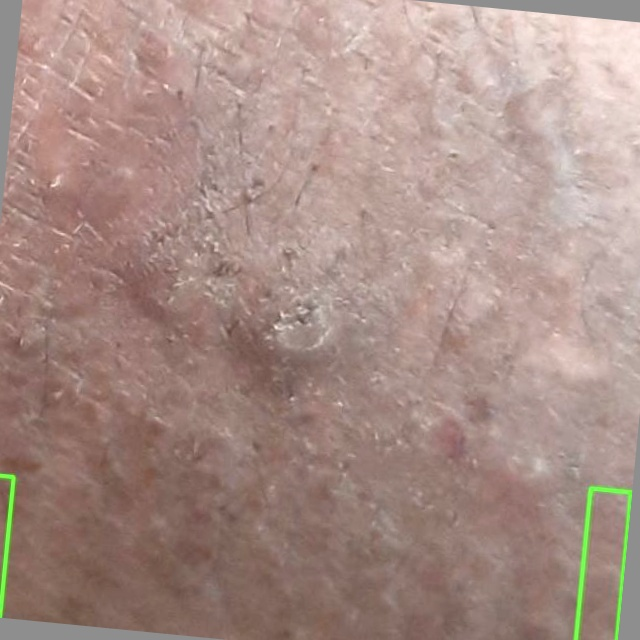Eczema: (576, 488, 631, 639)
